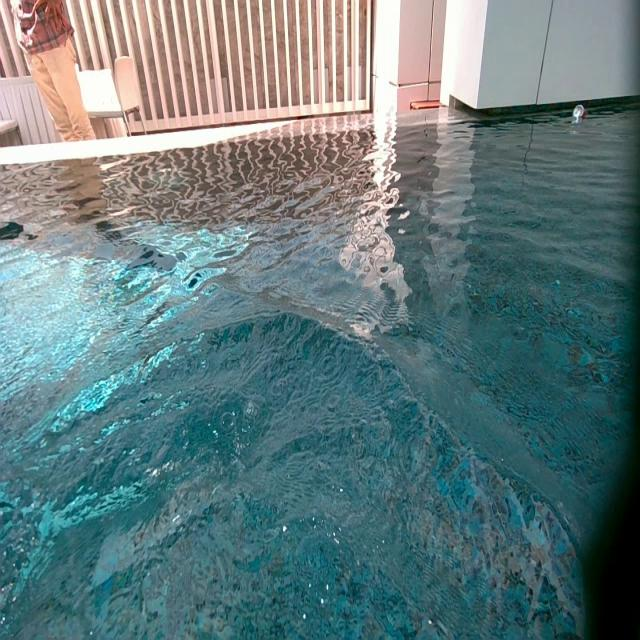Cans: (571, 103, 588, 122)
